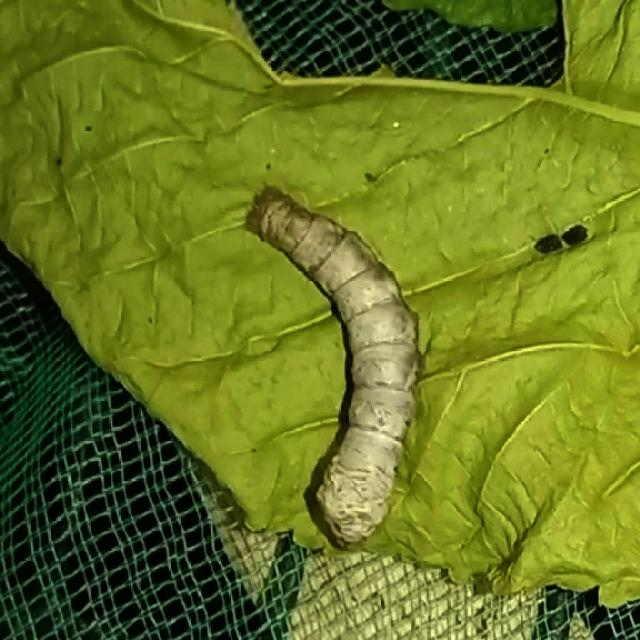Grasserie: (202, 128, 498, 609)
